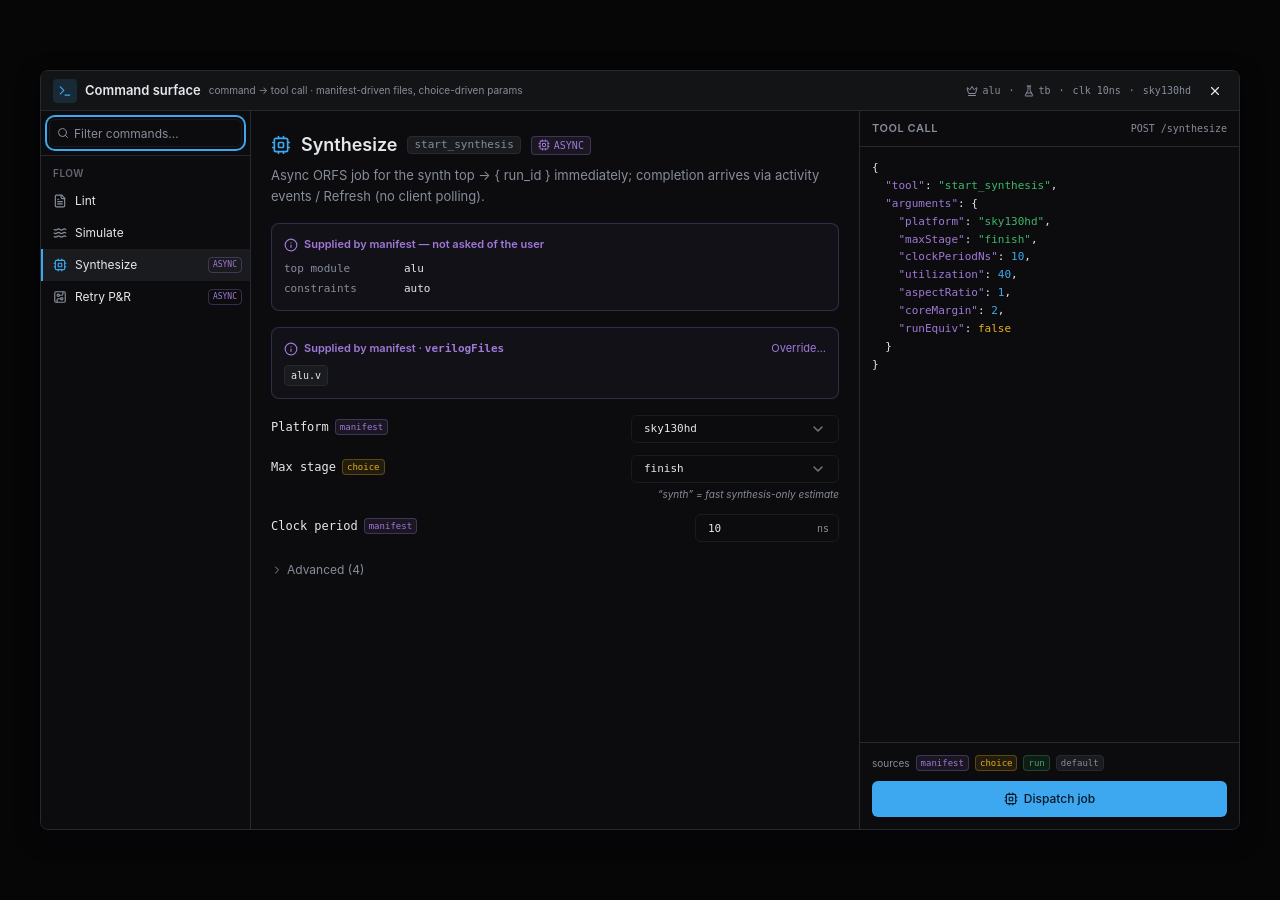
it: CommandSurface — file-override box (L1/FA1) › Override… swaps in the multi-combo; picked files land in the live payload; reset clears
The image size is (1280, 900).
Step 1. Click the button "Lint" → (146, 201), box left=41, top=185, right=250, bottom=217
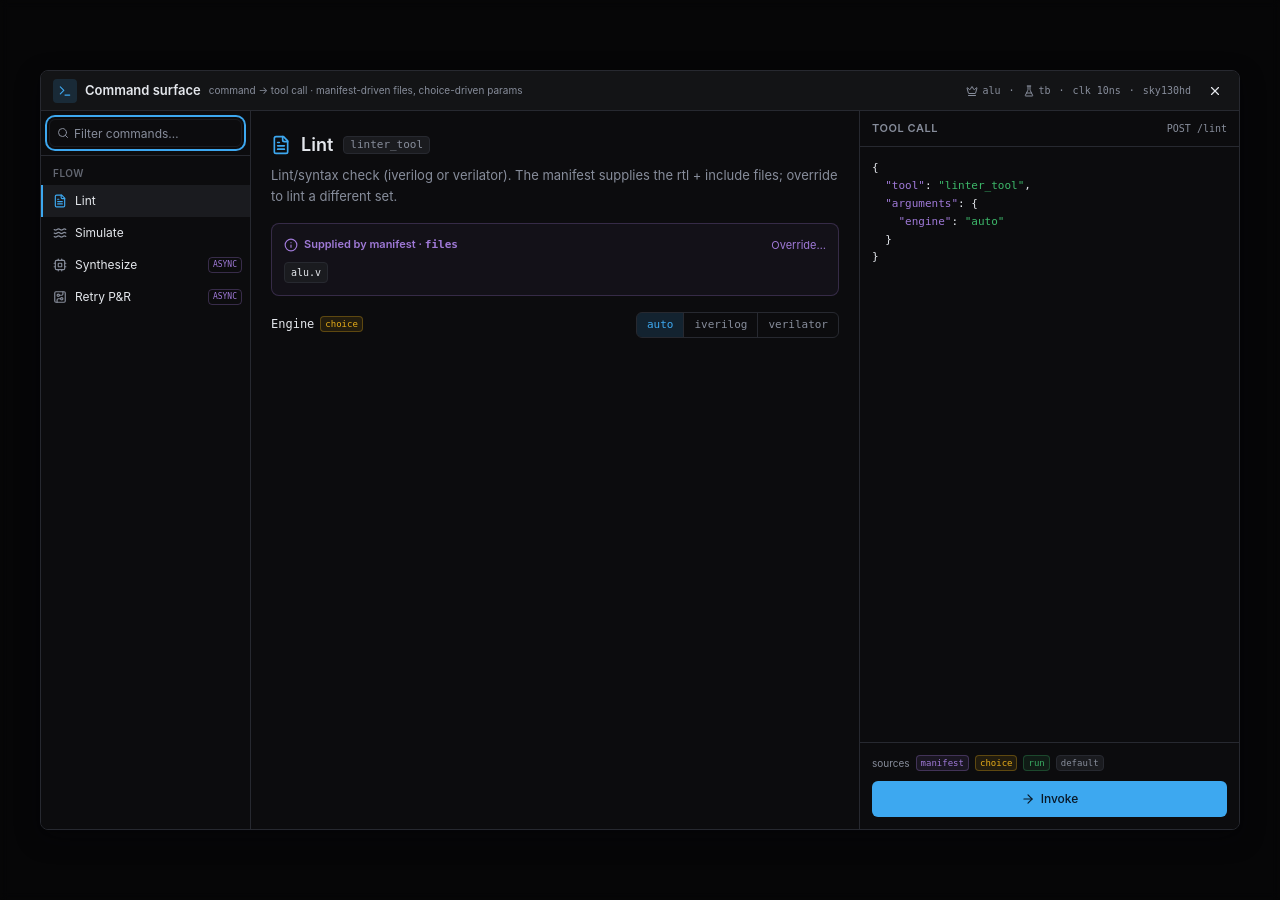
Step 2. Click the button "Override…" → (799, 245), box left=771, top=237, right=826, bottom=253
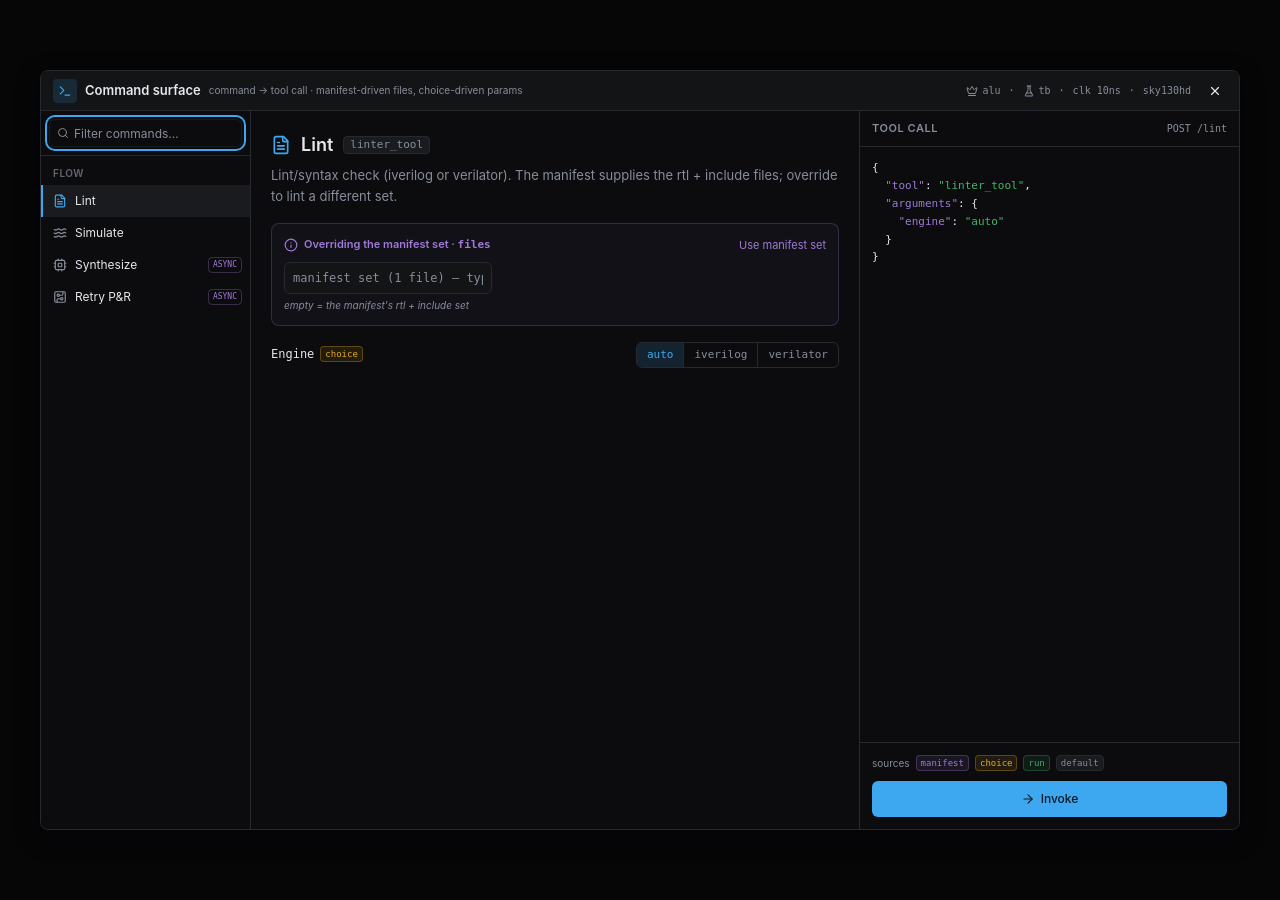
Step 3. Focus the dropdown named "Override files" → (388, 278), box left=284, top=262, right=492, bottom=294
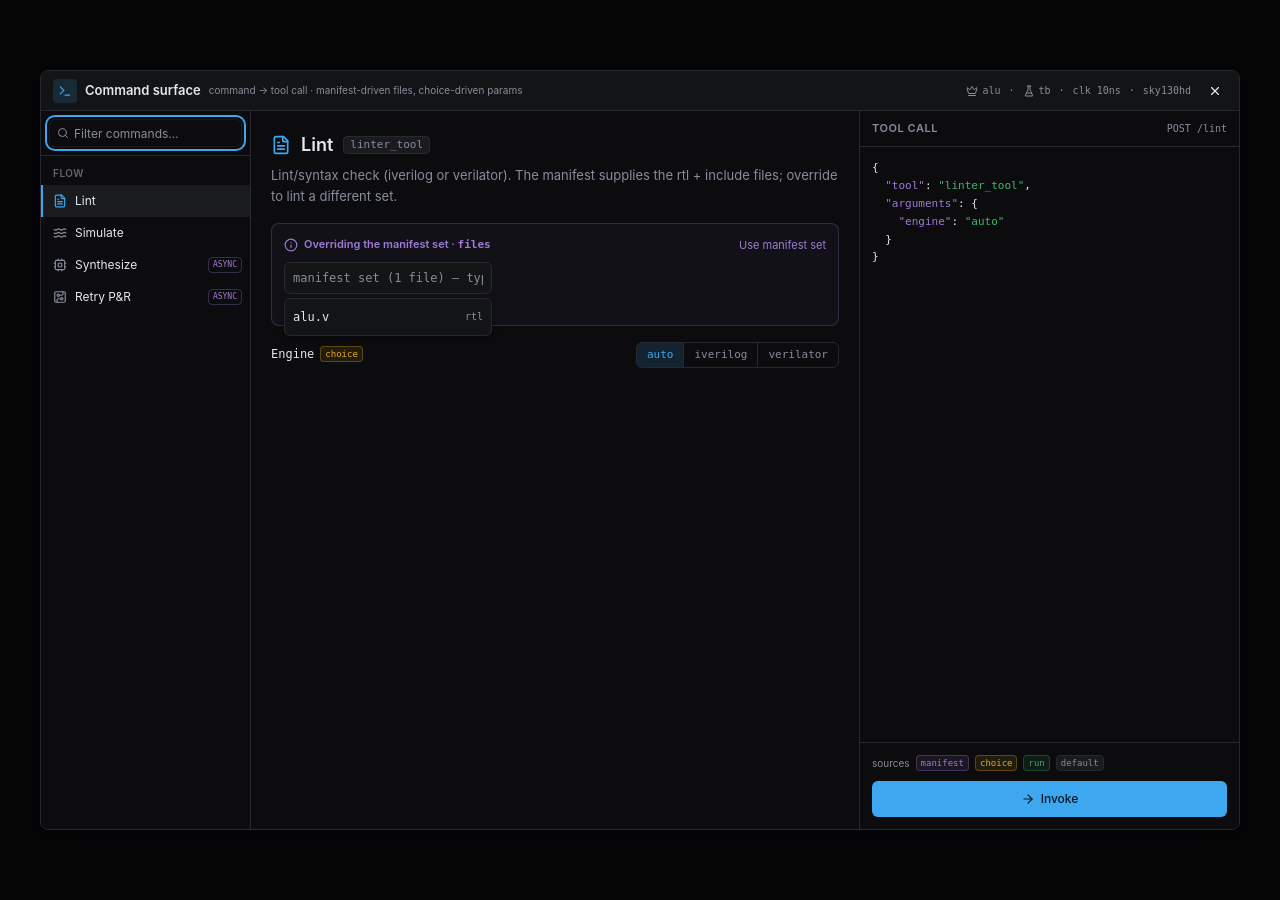
Step 4. Click the option "alu.v rtl" → (388, 317), box left=285, top=303, right=491, bottom=331
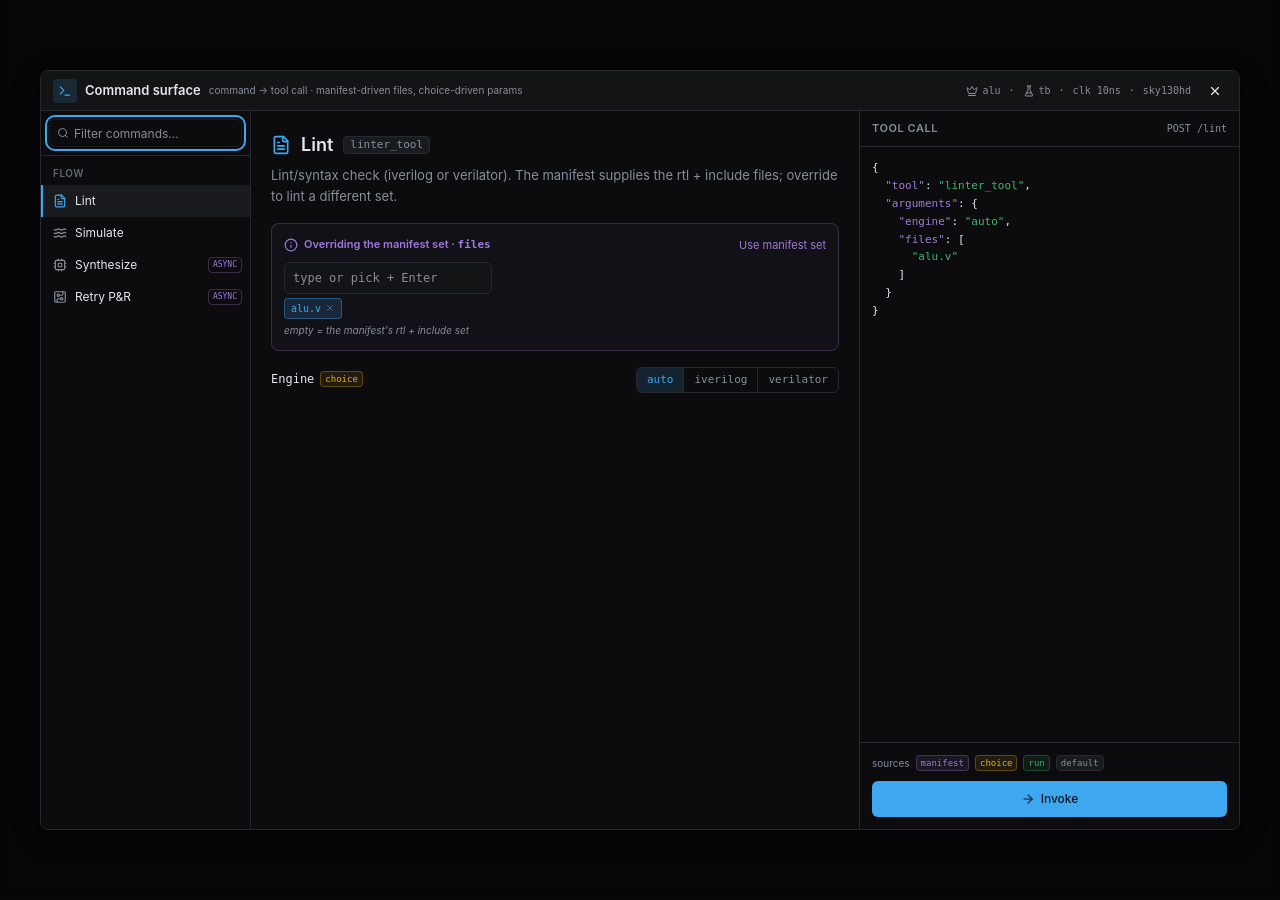
Expected: the element named "tool call payload" shows "\"files\"", left=898, top=232, right=945, bottom=246
Expected: the element named "tool call payload" shows "\"alu.v\"", left=912, top=250, right=958, bottom=263
# Free entry stays allowed — type a path the suggestions missed.
Step 5. Type "rtl/custom.v" into the dropdown named "Override files" → (388, 278), box left=284, top=262, right=492, bottom=294
Step 6. Press Enter in the dropdown named "Override files", box left=284, top=262, right=492, bottom=294
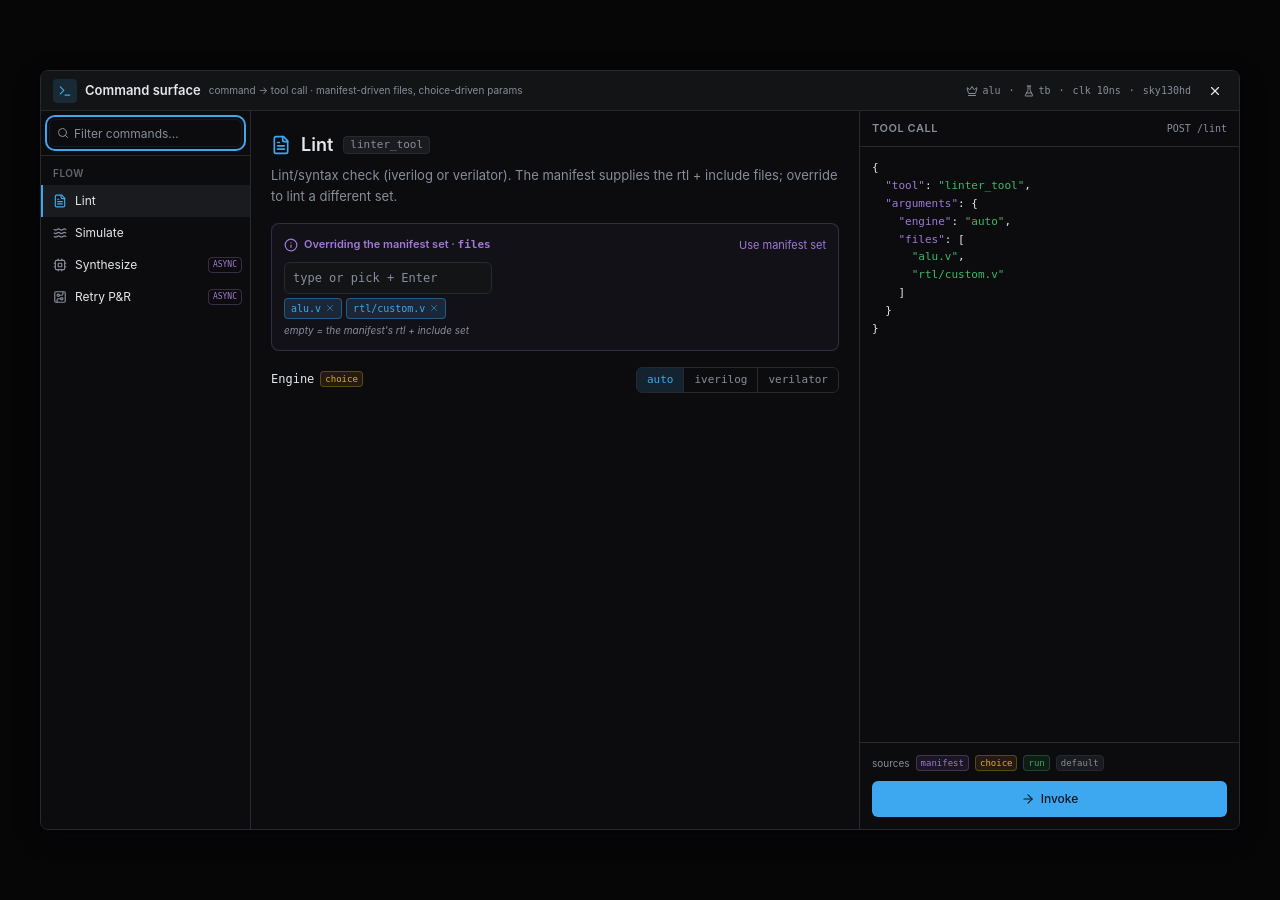
Expected: the element named "tool call payload" shows "rtl/custom.v", left=912, top=268, right=1004, bottom=281
# "Use manifest set" clears the override → payload back to manifest-driven.
Step 7. Click the button "Use manifest set" → (782, 245), box left=739, top=237, right=826, bottom=253
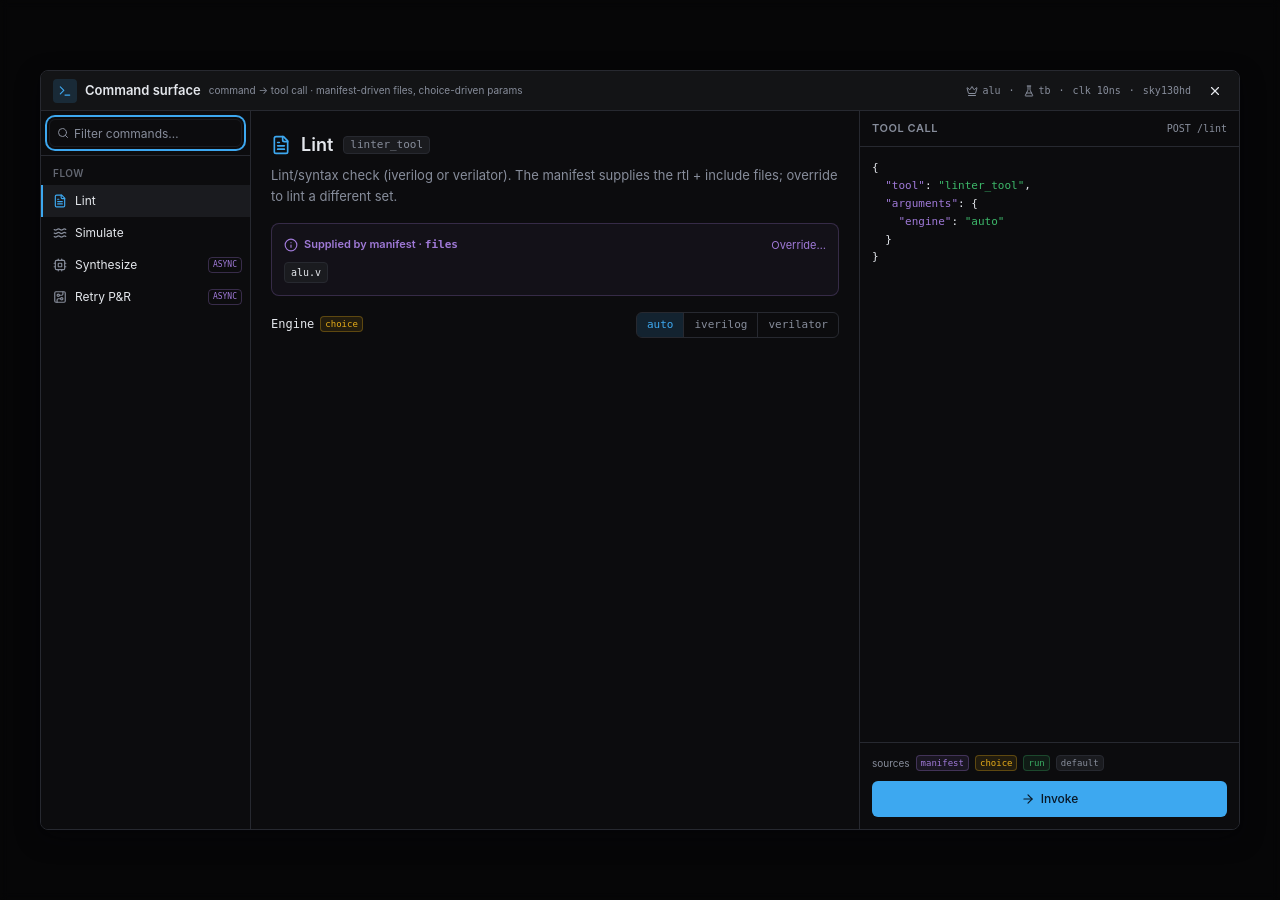
Expected: the text labelled "tool call payload" no longer shows "\"files\""
Expected: the element with test id "command-surface-override-files" shows "Supplied by manifest", left=304, top=237, right=416, bottom=251
